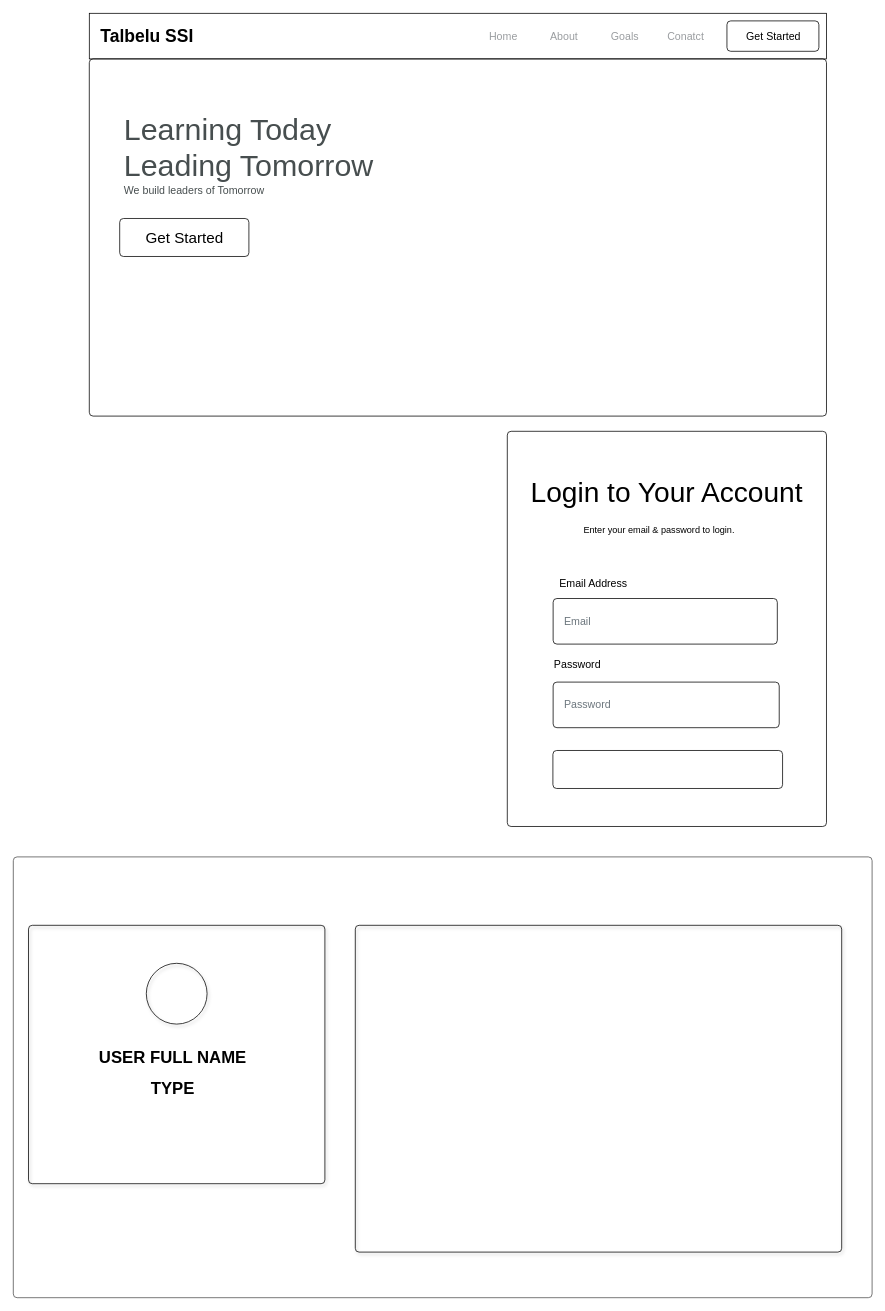
Image size: 885x1311. Some labels were removed from this diagram. The shapes that lost their labels are listed below. From the top down, each one's centre as x and y in pixels, then its label:
the point at 667,769: Login
the point at 177,994: PROFILE PICTURE
